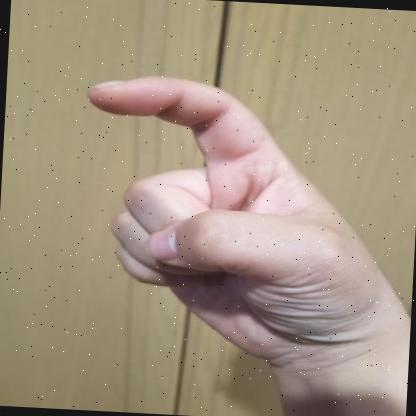X: (87, 76, 410, 372)
